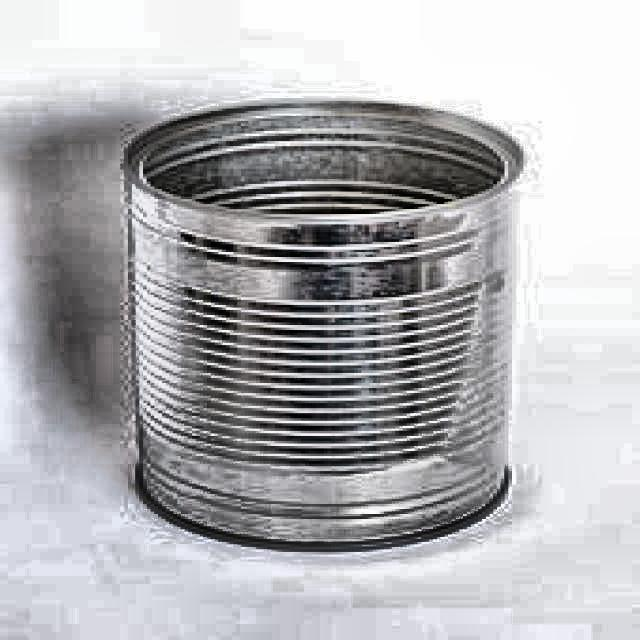metal: (125, 99, 525, 553)
